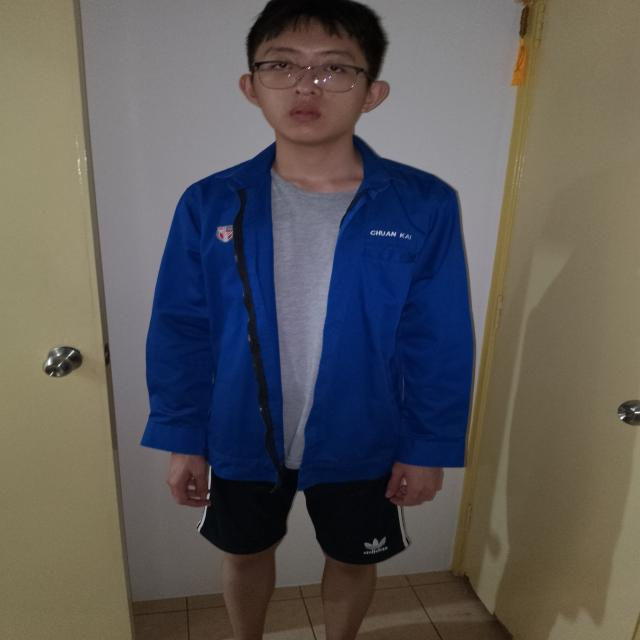person_with_labcoat: (142, 0, 473, 640)
